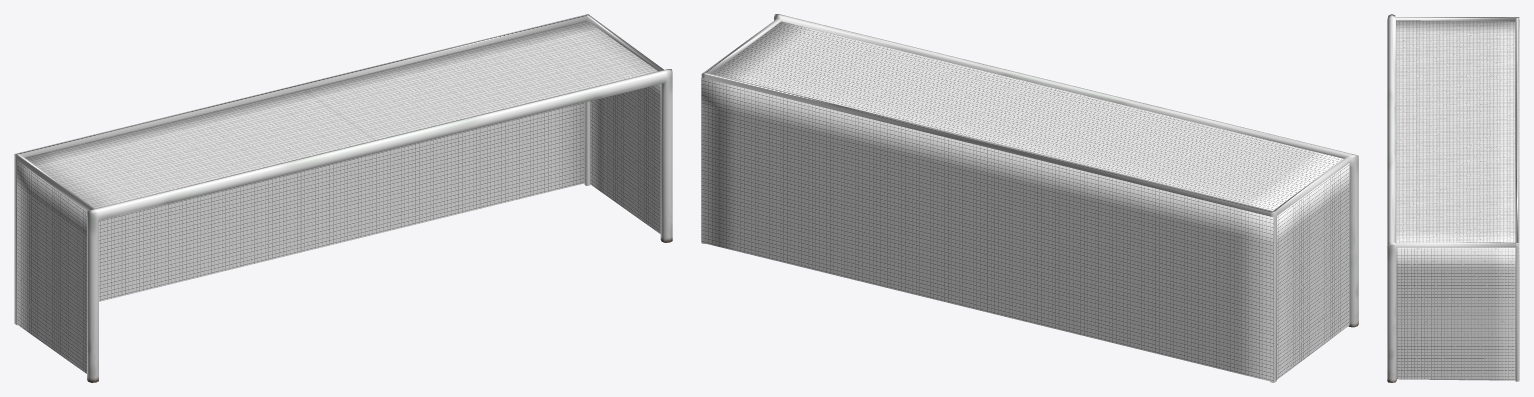
Rendered from goleira.fbx.
The picture shows the model from 3 angles, left to right: view 1: azimuth 30°, elevation 25°; view 2: azimuth 150°, elevation 25°; view 3: azimuth 270°, elevation 25°; orthographic projection. The views are drawn at different scales.
Visible parts, largest first — view 1: Plane, Traves; view 2: Plane, Traves; view 3: Plane, Traves.
Part boxes in pixels (x1,y1,x2,y2): Plane: (17,20,660,373); Traves: (14,14,672,382); Plane: (701,21,1349,382); Traves: (701,14,1358,382); Plane: (1396,20,1519,380); Traves: (1387,14,1519,382).
Bounding box in the file's own units: 7.19 × 2.01 × 1.75.
